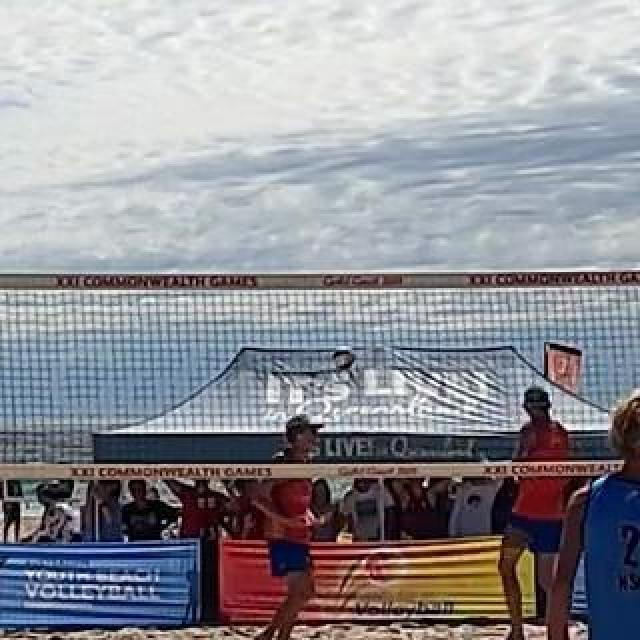volleyball: (334, 349, 356, 371)
